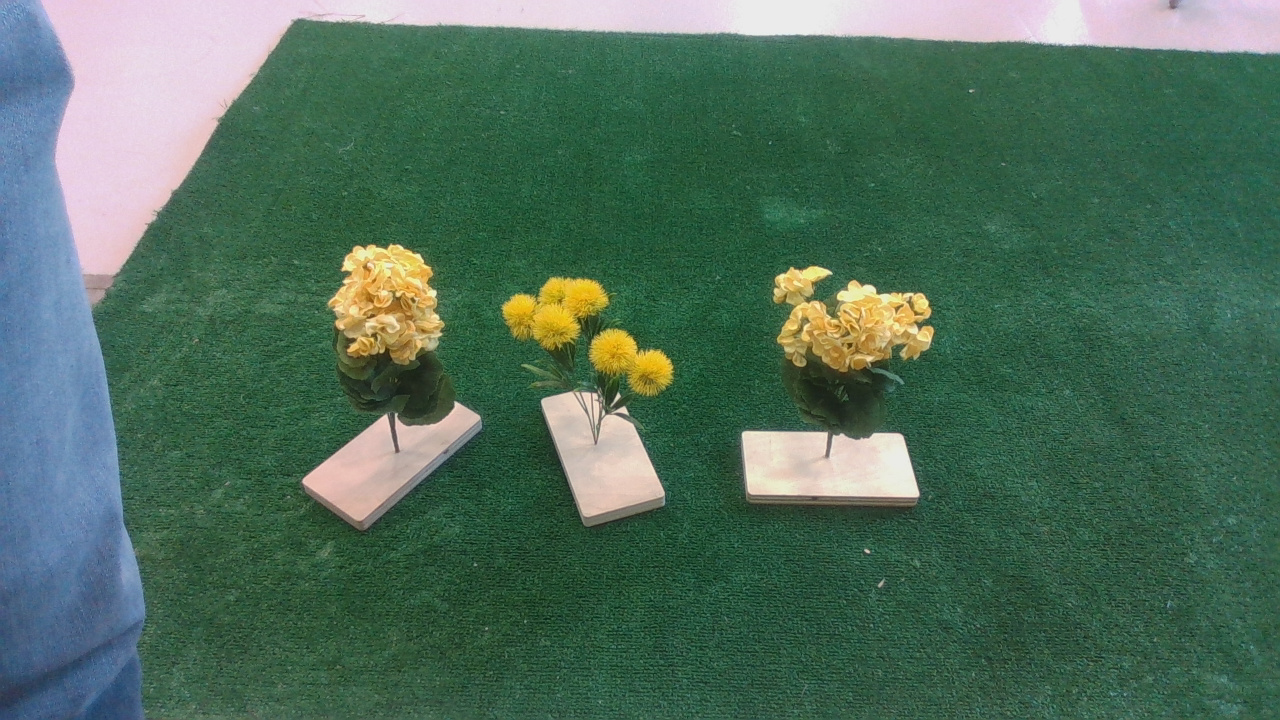dandelion: (499, 263, 694, 413)
geranium: (750, 254, 967, 414), (312, 242, 472, 395)
